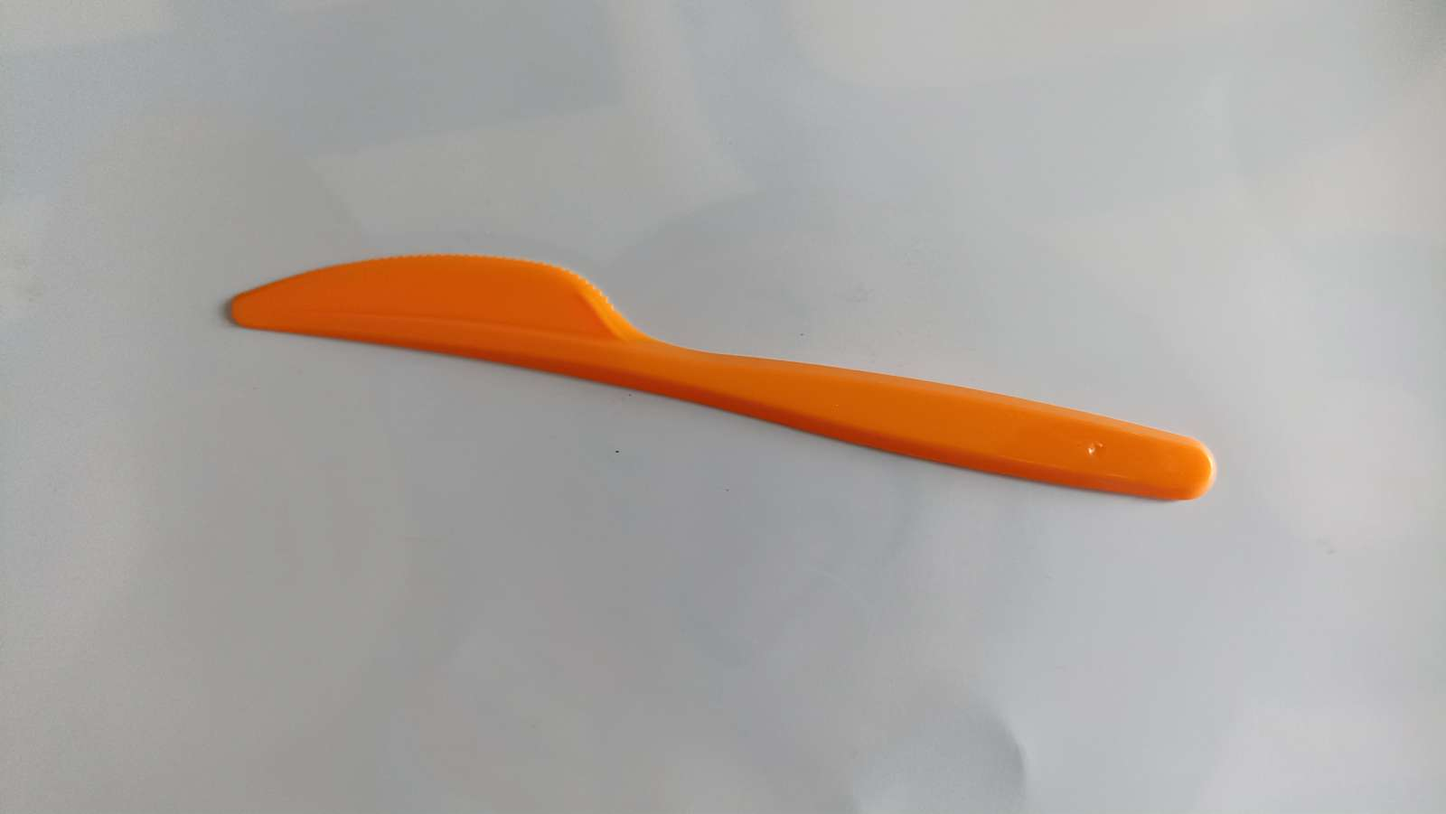plastic: (201, 238, 1221, 518)
